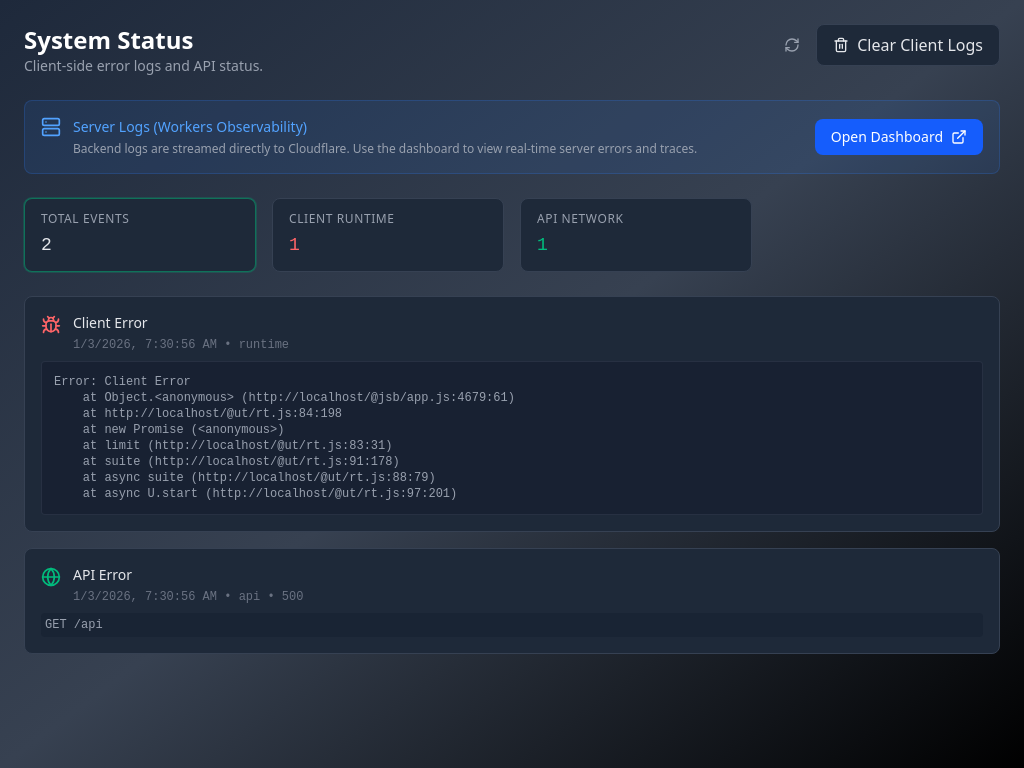
Scenario: SystemStatus page › filters logs
The image size is (1024, 768).
Expected: the text "API Error" is shown, [73,565,132,584]
Expected: the text "Client Error" is shown, [73,313,148,332]
// Filter by Client
Click the text "Client Runtime" at {"x": 342, "y": 218}, box [289,210,395,227]
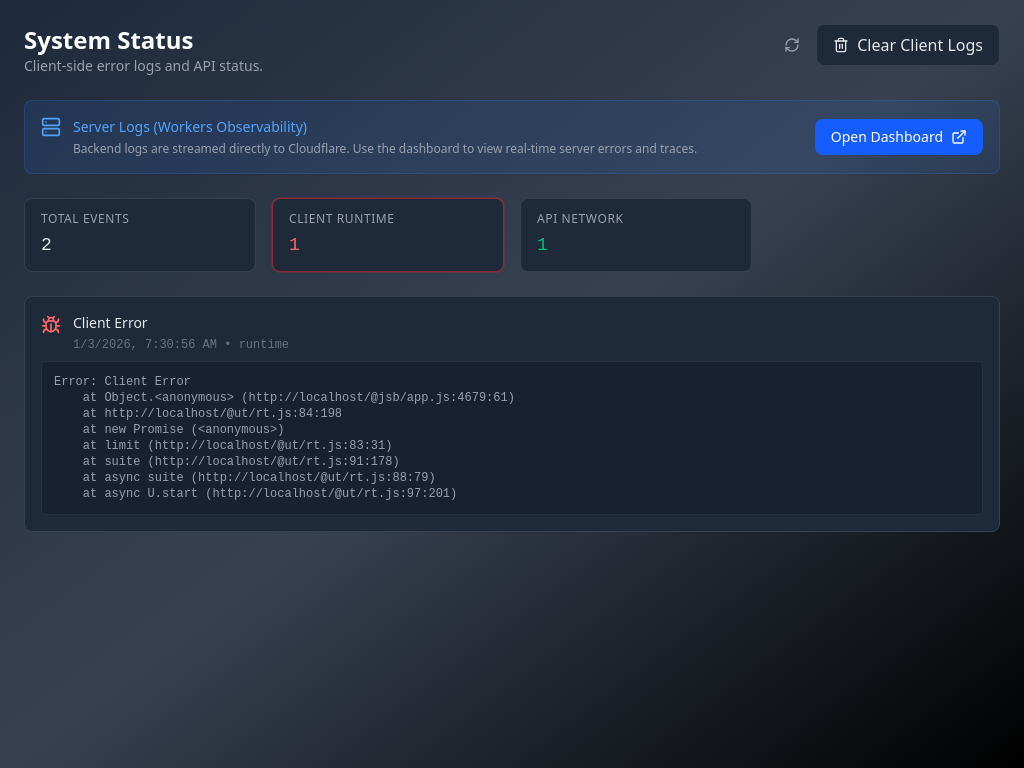
Expected: the text "Client Error" is shown, [73,313,148,332]
Expected: the text "API Error" is gone
// Filter by API
Click the text "API Network" at {"x": 580, "y": 218}, box [537,210,624,227]
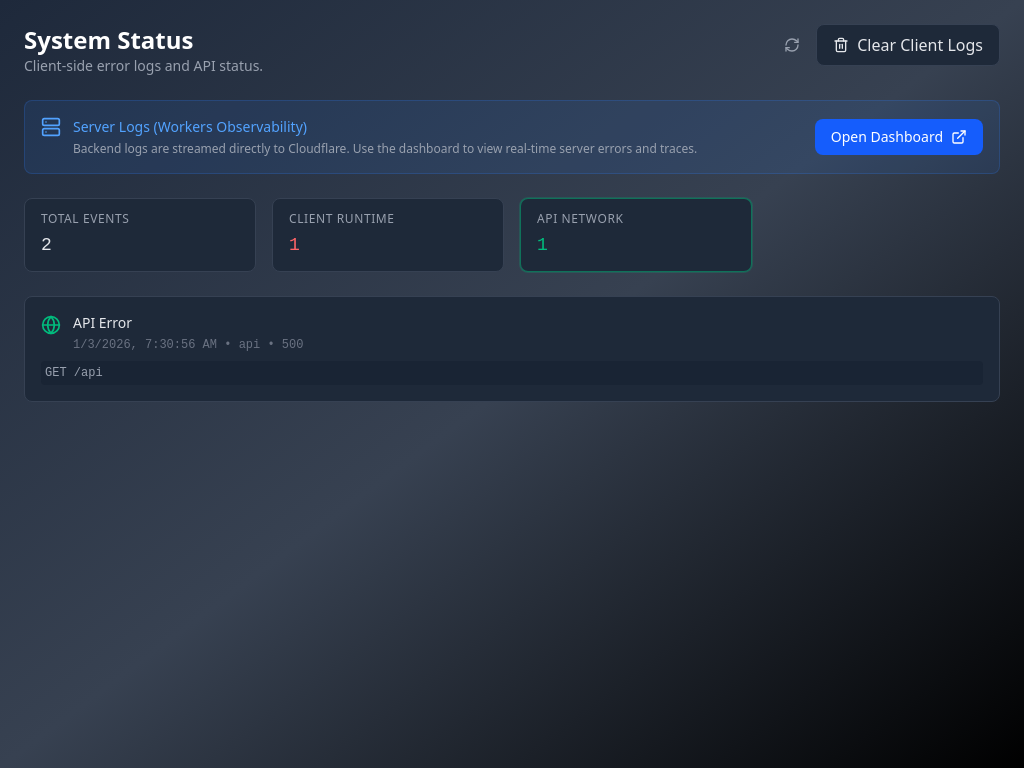
Expected: the text "API Error" is shown, [73,313,132,332]
Expected: the text "Client Error" is gone
